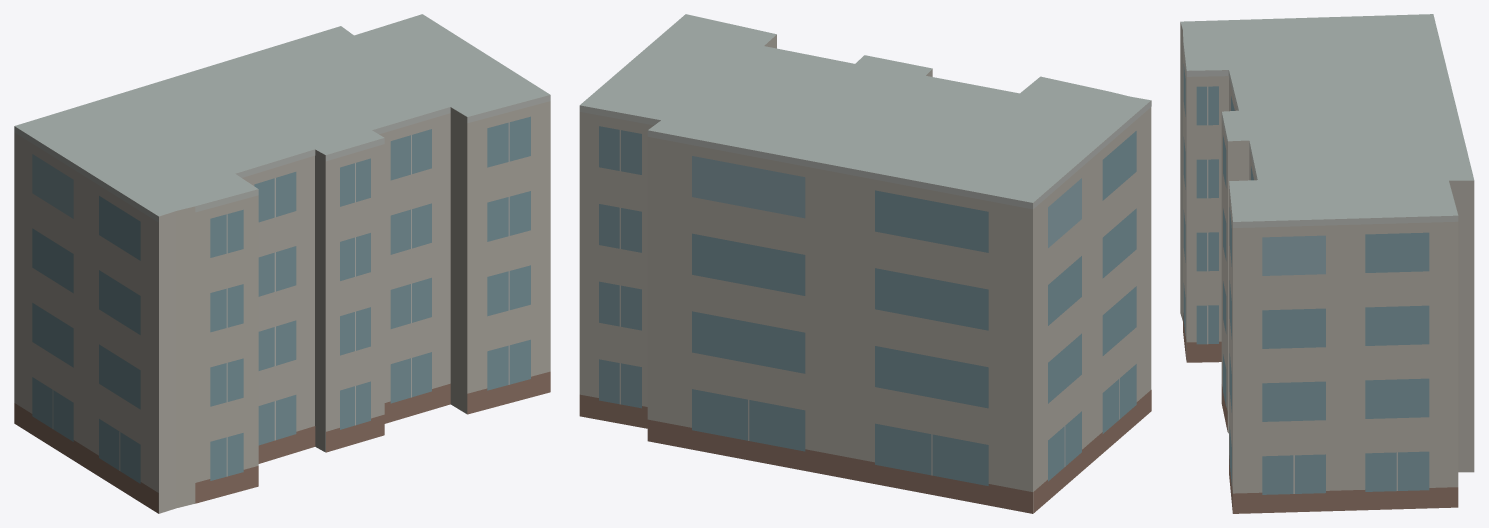
Rendered from survey-upis-32757678.glb.
3 renders of one model, left to right at view 1: azimuth 30°, elevation 25°; view 2: azimuth 150°, elevation 25°; view 3: azimuth 270°, elevation 25°, orthographic. The views are drawn at different scales.
Parts seen in each view (by area): view 1: survey-upis-32757678.tmp; view 2: survey-upis-32757678.tmp; view 3: survey-upis-32757678.tmp.
Boxes of the visible parts, x1,y1,x2,y2 form: survey-upis-32757678.tmp: (14,14,550,513); survey-upis-32757678.tmp: (579,14,1151,513); survey-upis-32757678.tmp: (1180,14,1474,513).
Size of the model in its own units: 17.89 by 11.7 by 10.69.
